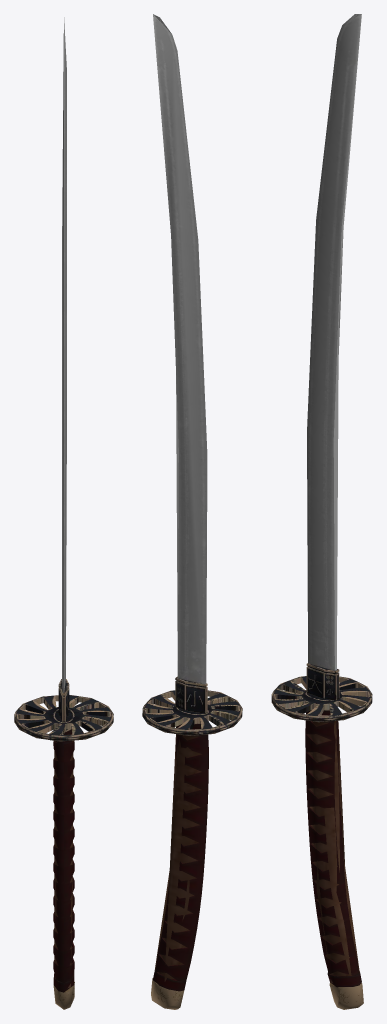
File: antique_katana_01.glb
3 views of the same model, side by side, from view 1: azimuth 90°, elevation 25°; view 2: azimuth 150°, elevation 25°; view 3: azimuth 330°, elevation 25° (orthographic).
Visible parts, largest first — view 1: antique_katana_01; view 2: antique_katana_01; view 3: antique_katana_01.
Part boxes in pixels (x1,y1,x2,y2): antique_katana_01: [14, 17, 113, 1009]; antique_katana_01: [142, 14, 242, 1009]; antique_katana_01: [271, 14, 372, 1009].
Bounding box in the file's own units: 0.092 × 1 × 0.092.
Materials: 1 (1 with a texture image).
